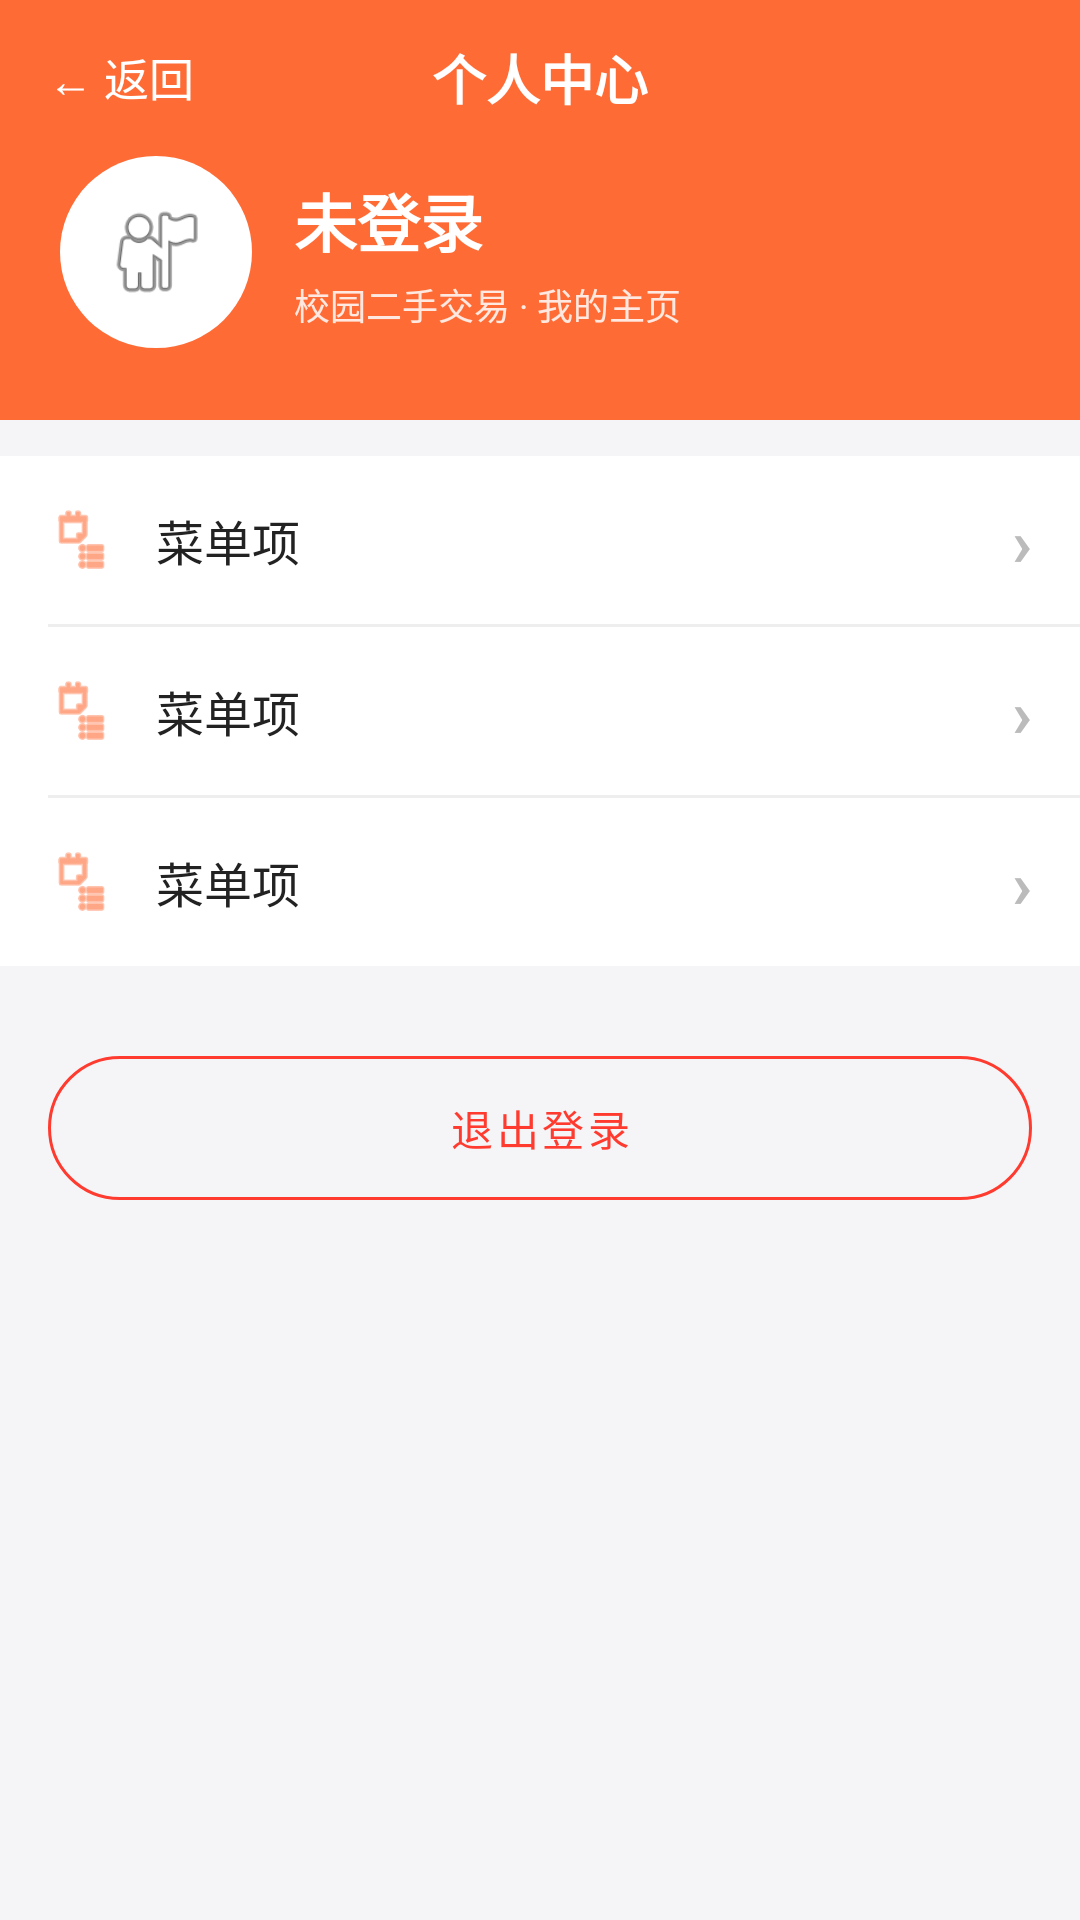

Where to tap for icons on this 1080 × 1920 app screen, as (x=x, y=y):
头像: (x=156, y=252)
